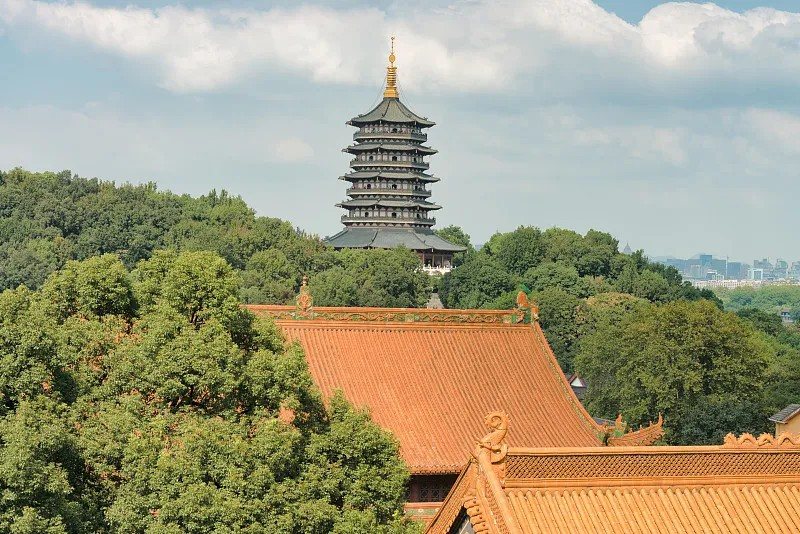Leifeng: (320, 33, 467, 269)
